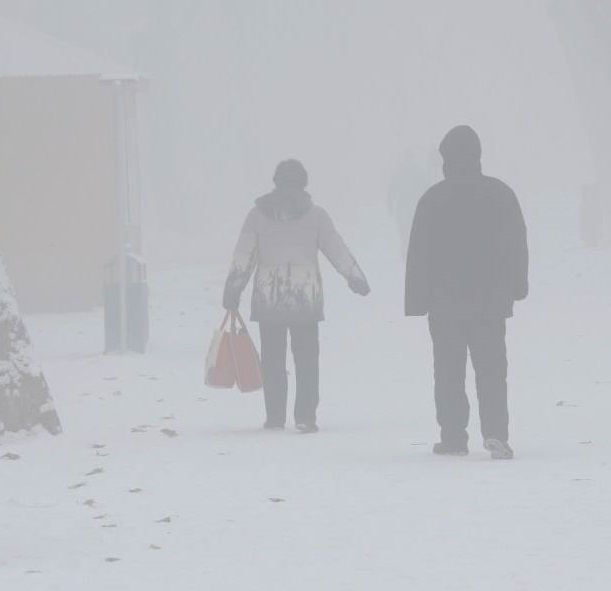person: (201, 154, 372, 435), (402, 121, 539, 464)
